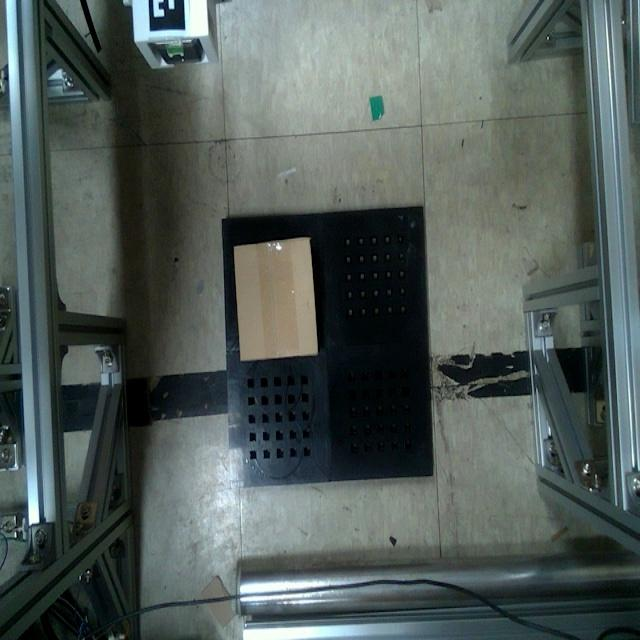box: (228, 236, 324, 367)
pallet: (217, 200, 439, 491)
